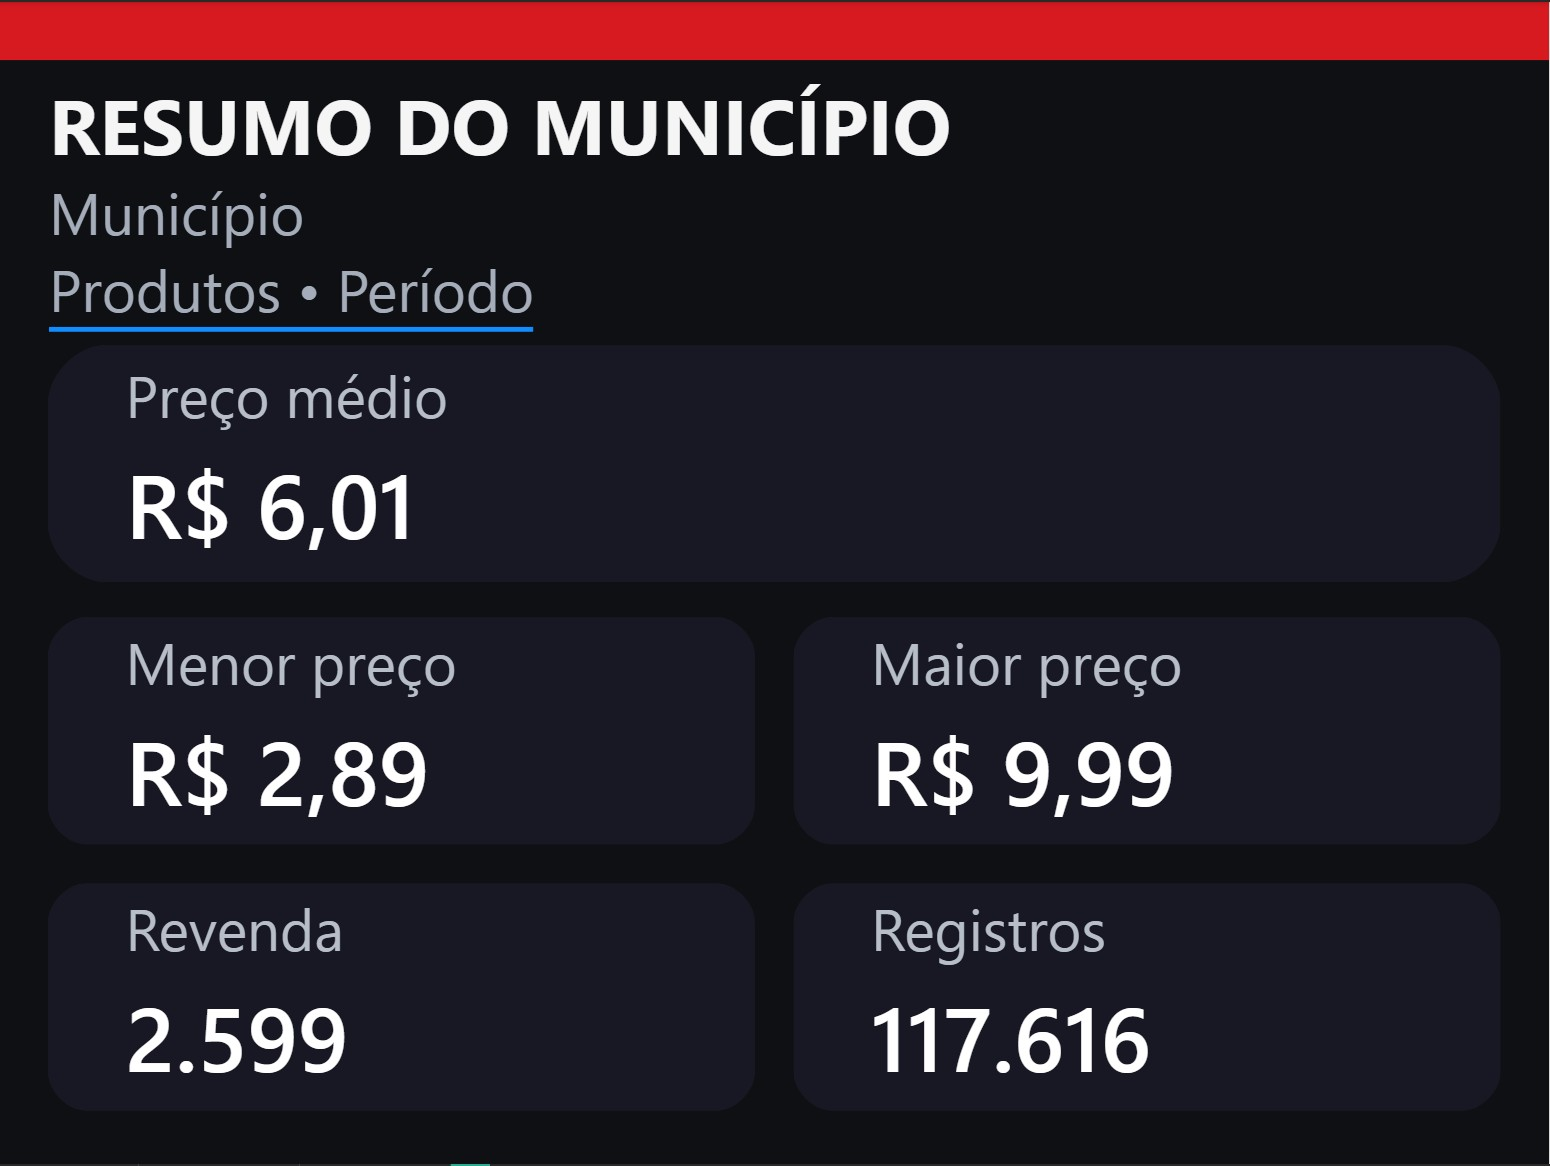

Layout of this report page (visuals, bound fields, positions):
{"tool":"powerbi","page":{"name":"Tooltip - Município","canvas":[320,240],"ordinal":6},"visuals":[{"type":"shape","title":"Layout","box":[0,0,320,12],"z":0},{"type":"textbox","title":"Título","box":[10,14.7,200,23],"z":1000},{"type":"textbox","title":"Subtítulo","box":[10,35.2,300.1,39.7],"z":2000},{"type":"cardVisual","title":"Métricas","fields":{"Data":["Medidas.preco_minimo","Medidas.preco_maximo","Medidas.total_revendas","Medidas.total_registros"]},"box":[10,127,300,103],"z":3000},{"type":"cardVisual","title":"Métricas","fields":{"Data":["Medidas.preco_medio"]},"box":[10,70.8,300,49.2],"z":4000}]}

Visuals, with their boxes in screenshot pixels (x1, y1, x2, y2), scaled from the page's 320x240 canvas onto the 1550x1166 screenshot:
"Layout" shape: (0, 0, 1549, 58)
"Título" textbox: (48, 71, 1017, 183)
"Subtítulo" textbox: (48, 171, 1502, 364)
"Métricas" cardVisual: (48, 617, 1502, 1117)
"Métricas" cardVisual: (48, 344, 1502, 583)
